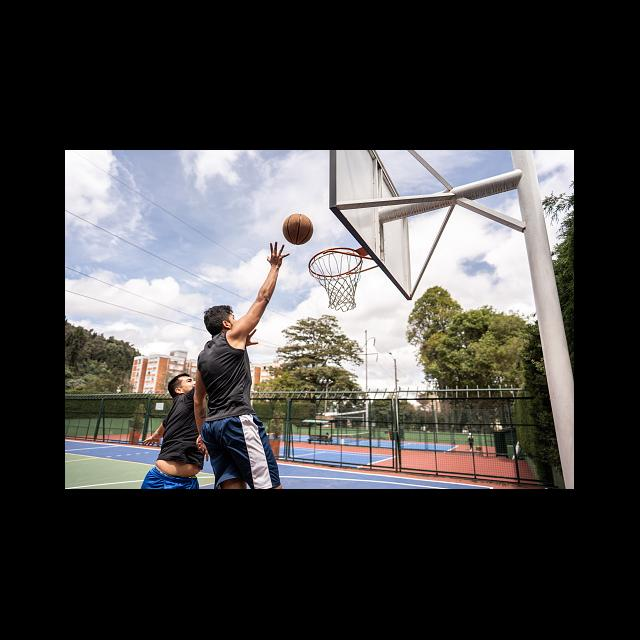basketball: (283, 215, 315, 245)
hoop: (308, 251, 364, 311)
